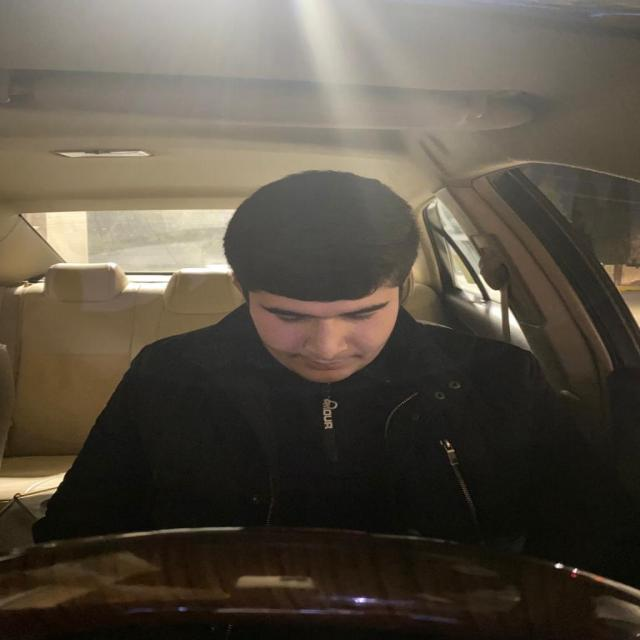drowsy: (217, 167, 425, 388)
